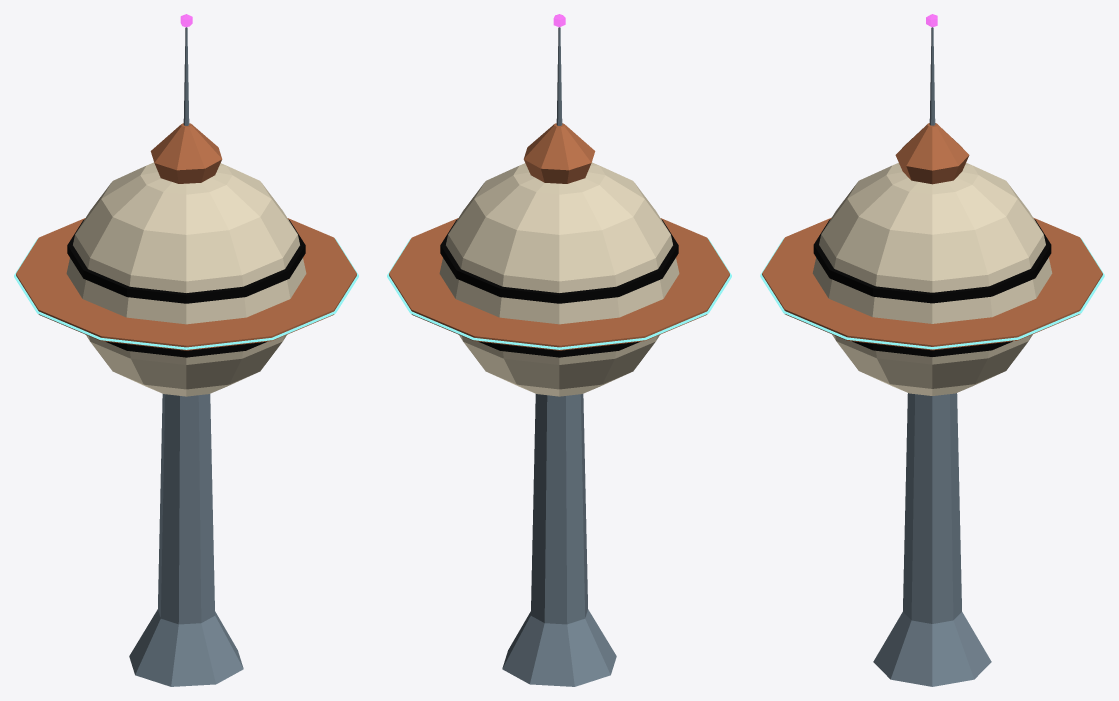
File: City_SphereTower.fbx
3 views of the same model, side by side, from view 1: azimuth 30°, elevation 25°; view 2: azimuth 150°, elevation 25°; view 3: azimuth 270°, elevation 25° (orthographic).
Parts seen in each view (by area): view 1: City_SphereTower; view 2: City_SphereTower; view 3: City_SphereTower.
Part boxes in pixels (<box>): City_SphereTower: <box>14,14,358,686</box>; City_SphereTower: <box>387,14,731,686</box>; City_SphereTower: <box>760,14,1104,686</box>.
Bounding box in the file's own units: 18.6 × 18.6 × 38.6.
